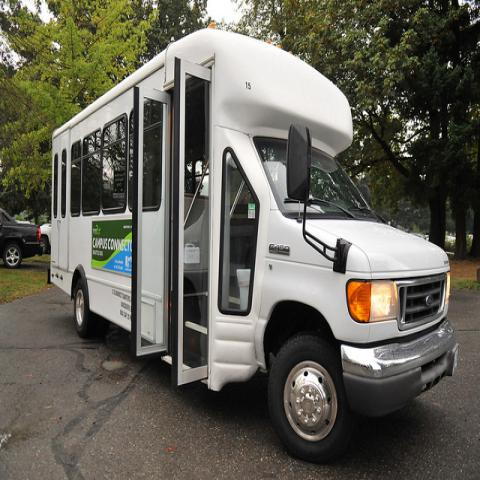bus: (47, 28, 459, 462)
car: (0, 207, 45, 269)
truck: (40, 224, 48, 255)
